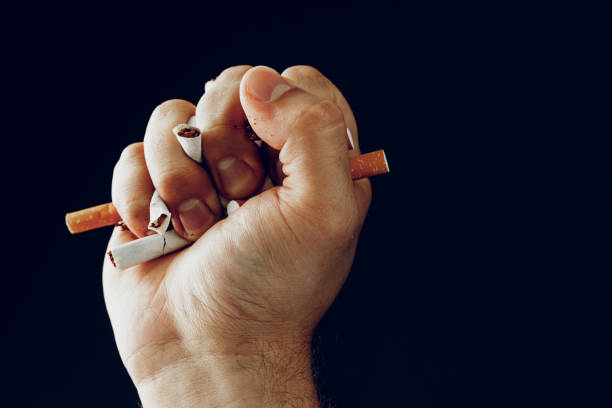cigarette: (105, 228, 193, 273), (64, 201, 123, 236), (348, 148, 391, 181), (171, 122, 203, 163), (146, 188, 172, 237), (243, 119, 263, 148), (225, 198, 247, 217), (344, 126, 355, 150)
